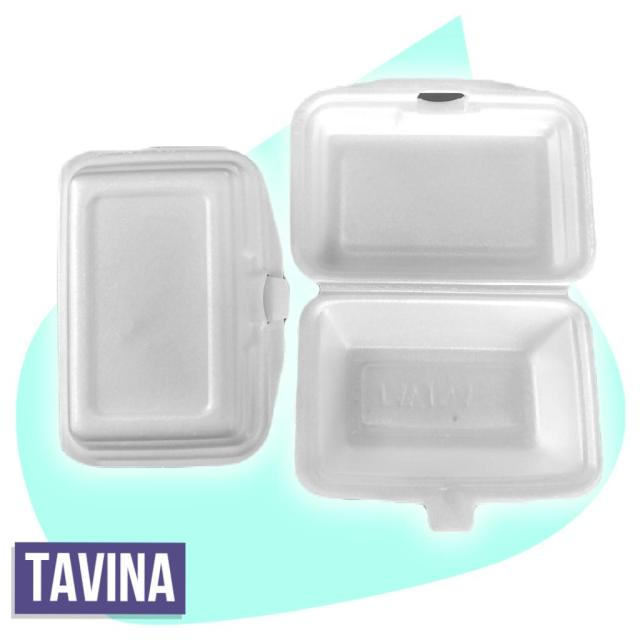styrofoam: (288, 76, 603, 532), (56, 144, 290, 468)
